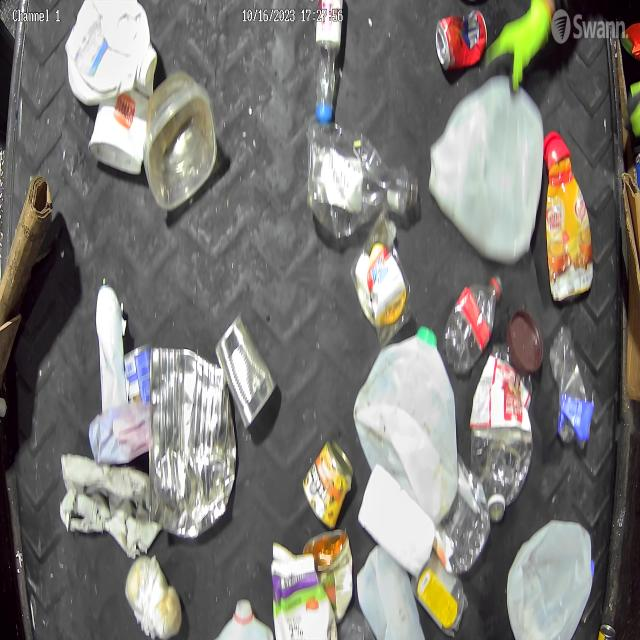can: (213, 313, 276, 441), (296, 438, 354, 528), (430, 6, 490, 72)
milk_jug: (356, 324, 460, 522), (434, 81, 542, 262), (502, 517, 605, 640), (62, 0, 156, 108)
non_white_jug: (546, 124, 594, 306)
plastic_bottle: (472, 337, 534, 522), (444, 274, 508, 380)
